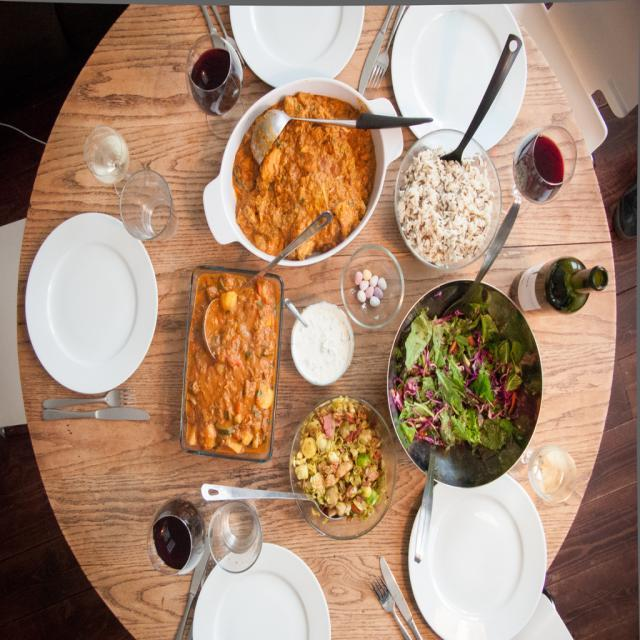Salad: (384, 300, 530, 474), (285, 401, 391, 521)
